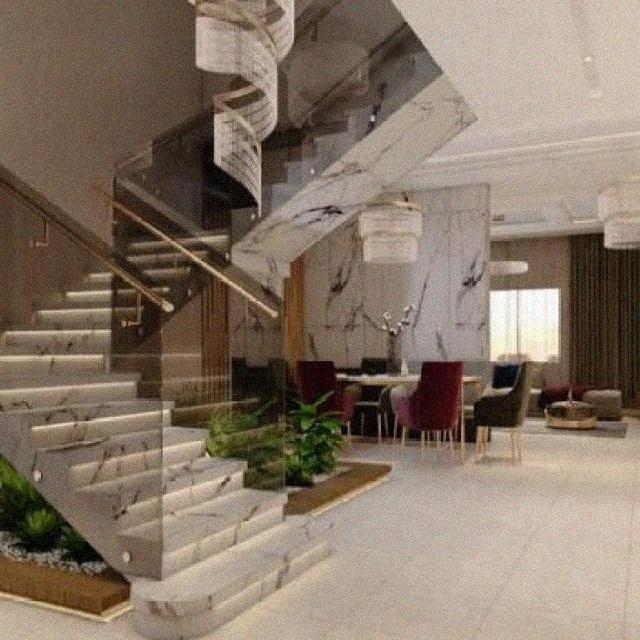stair: (0, 180, 342, 638)
